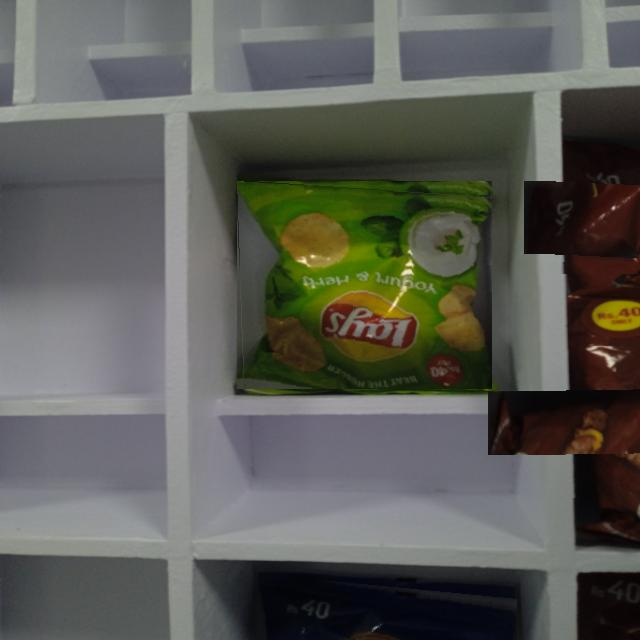Plastic: (236, 180, 492, 389), (258, 574, 517, 640), (531, 346, 640, 499), (545, 159, 640, 274)
